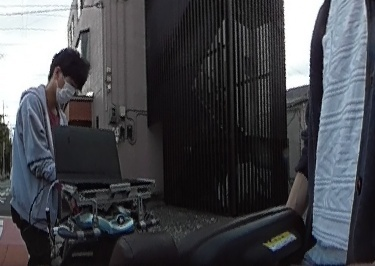person: (6, 46, 88, 266)
